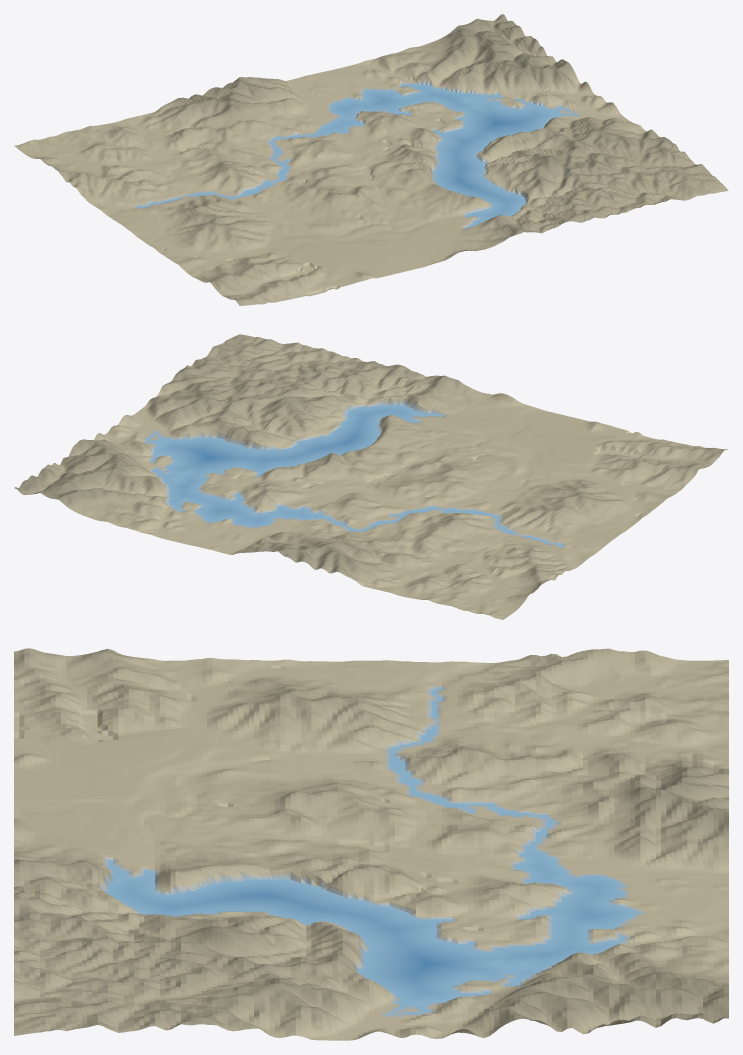
File: lake_pend_oreille_id.glb
3 views of the same model, one above another, from view 1: azimuth 30°, elevation 25°; view 2: azimuth 150°, elevation 25°; view 3: azimuth 270°, elevation 25° (orthographic). The views are drawn at different scales.
Visible parts, largest first — view 1: terrain, water; view 2: terrain, water; view 3: terrain, water.
Part boxes in pixels (left/top/right/bottom): terrain: left=14, top=14, right=728, bottom=305; water: left=137, top=84, right=574, bottom=228; terrain: left=14, top=334, right=728, bottom=619; water: left=145, top=404, right=562, bottom=547; terrain: left=14, top=648, right=728, bottom=1040; water: left=104, top=687, right=640, bottom=1014.
Size of the model in its own units: 68398 by 2168 by 54702.
